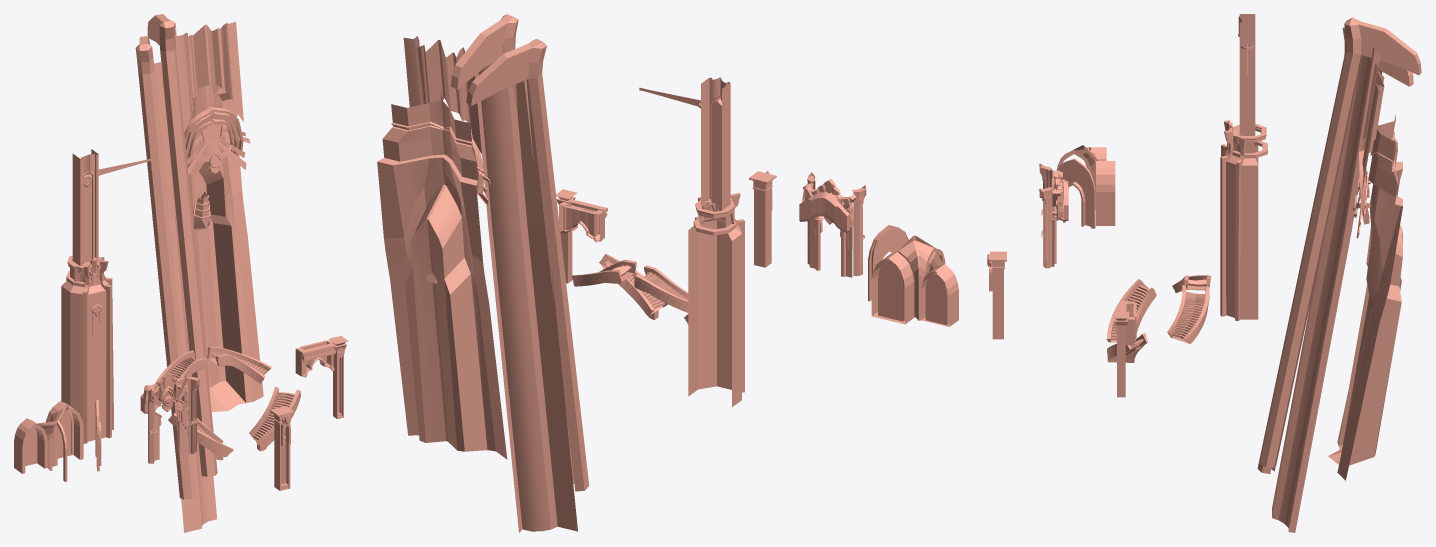
The model's file is highRESV2.fbx.
3 renders of one model, left to right at view 1: azimuth 30°, elevation 25°; view 2: azimuth 150°, elevation 25°; view 3: azimuth 270°, elevation 25°, orthographic. The views are drawn at different scales.
Parts seen in each view (by area): view 1: pCylinder40, polySurface229, polySurface4, polySurface241, polySurface230, pPlane70, polySurface225, polySurface134, pCube145, polySurface212, polySurface62, polySurface256 (+7 smaller); view 2: polySurface229, polySurface230, polySurface4, pCylinder40, pPlane70, polySurface241, pCube145, polySurface138, polySurface274, polySurface57, pPlane72, polySurface134 (+4 smaller); view 3: polySurface229, polySurface230, pCylinder40, polySurface4, pPlane70, polySurface212, pPlane72, polySurface241, polySurface62, pCube145, polySurface8, polySurface132 (+3 smaller).
Part boxes in pixels (left/top/right/bottom): pCylinder40: left=135, top=14, right=217, bottom=499; polySurface229: left=187, top=83, right=263, bottom=411; polySurface4: left=61, top=149, right=108, bottom=441; polySurface241: left=176, top=21, right=243, bottom=131; polySurface230: left=154, top=30, right=217, bottom=532; pPlane70: left=14, top=401, right=83, bottom=481; polySurface225: left=184, top=106, right=243, bottom=166; polySurface134: left=249, top=387, right=300, bottom=451; pCube145: left=270, top=406, right=294, bottom=490; polySurface212: left=207, top=346, right=271, bottom=383; polySurface62: left=99, top=260, right=111, bottom=438; polySurface256: left=82, top=264, right=89, bottom=443; polySurface229: left=377, top=92, right=507, bottom=459; polySurface230: left=475, top=44, right=577, bottom=532; polySurface4: left=688, top=77, right=741, bottom=406; pCylinder40: left=450, top=14, right=589, bottom=491; pPlane70: left=871, top=235, right=958, bottom=326; polySurface241: left=403, top=36, right=481, bottom=154; pCube145: left=749, top=171, right=776, bottom=267; polySurface138: left=634, top=265, right=688, bottom=312; polySurface274: left=799, top=192, right=849, bottom=232; polySurface57: left=559, top=202, right=604, bottom=242; pPlane72: left=868, top=225, right=908, bottom=301; polySurface134: left=599, top=254, right=667, bottom=319; polySurface229: left=1328, top=114, right=1402, bottom=480; polySurface230: left=1272, top=47, right=1380, bottom=532; pCylinder40: left=1257, top=17, right=1421, bottom=473; polySurface4: left=1225, top=14, right=1258, bottom=319; pPlane70: left=1056, top=145, right=1115, bottom=225; polySurface212: left=1167, top=285, right=1209, bottom=343; pPlane72: left=1056, top=158, right=1095, bottom=228; polySurface241: left=1362, top=61, right=1384, bottom=188; polySurface62: left=1220, top=130, right=1233, bottom=316; pCube145: left=990, top=251, right=1006, bottom=339; polySurface8: left=1235, top=136, right=1246, bottom=321; polySurface132: left=1106, top=279, right=1156, bottom=342.
Bounding box in the file's own units: 911 × 1152 × 899.
